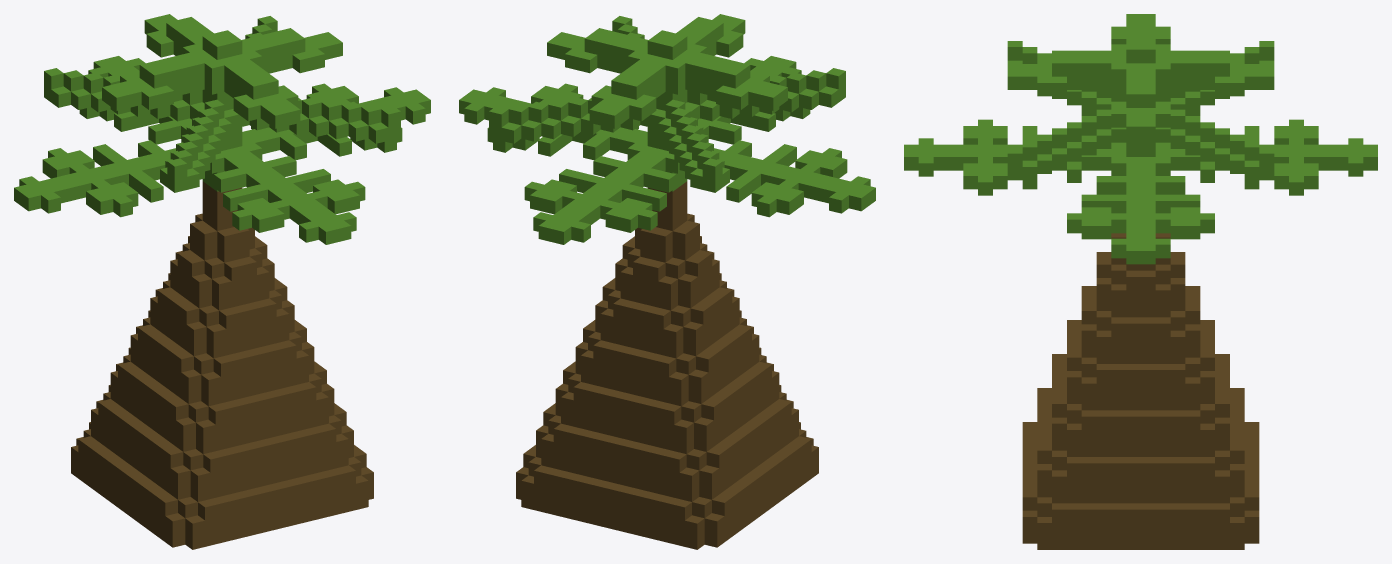
The model's file is Background_C_tree_01.FBX.
The picture shows the model from 3 angles, left to right: view 1: azimuth 30°, elevation 25°; view 2: azimuth 150°, elevation 25°; view 3: azimuth 270°, elevation 25°; orthographic projection. The views are drawn at different scales.
Visible parts, largest first — view 1: Background_C-8; view 2: Background_C-8; view 3: Background_C-8.
Boxes of the visible parts, x1,y1,x2,y2 form: Background_C-8: (14, 14, 430, 549); Background_C-8: (459, 14, 875, 549); Background_C-8: (904, 14, 1377, 549).
Bounding box in the file's own units: 3.2 × 3.4 × 3.2.
Materials: 1 (1 with a texture image).
